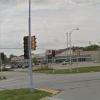Traffic light: (15, 29, 45, 67)
